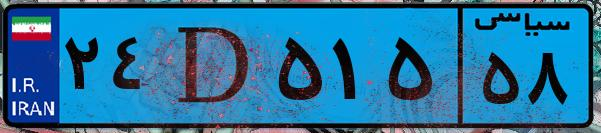1: (330, 28, 385, 110)
2: (57, 26, 110, 100)
4: (110, 28, 158, 98)
5: (270, 28, 330, 110), (385, 28, 445, 110), (475, 38, 525, 113)
8: (525, 38, 570, 115)
D: (158, 12, 270, 120)
